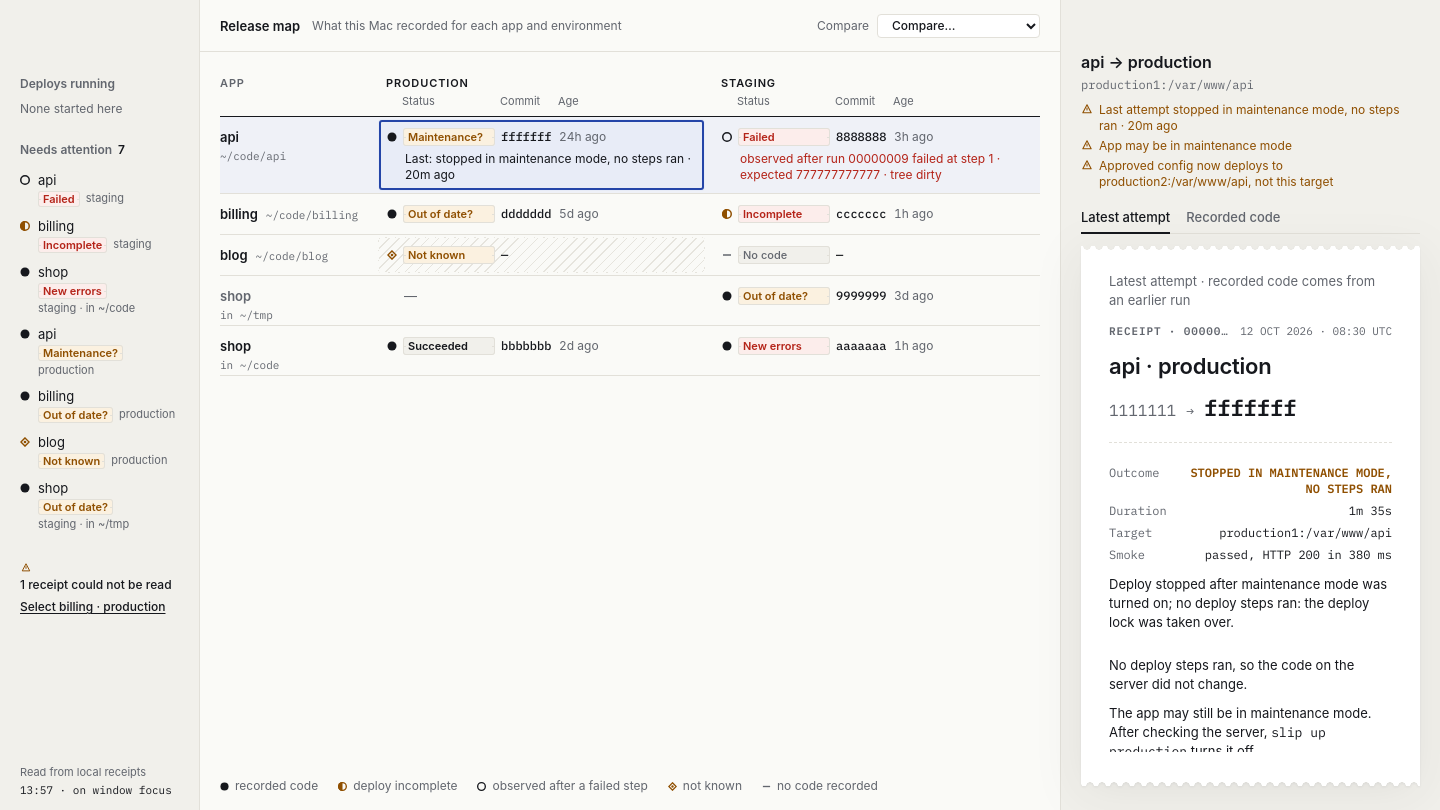
Test: the recorded code and the unreadable receipt are reachable from the receipt
Click the tab "Recorded code" at [1233, 218], box [1186, 202, 1280, 234]
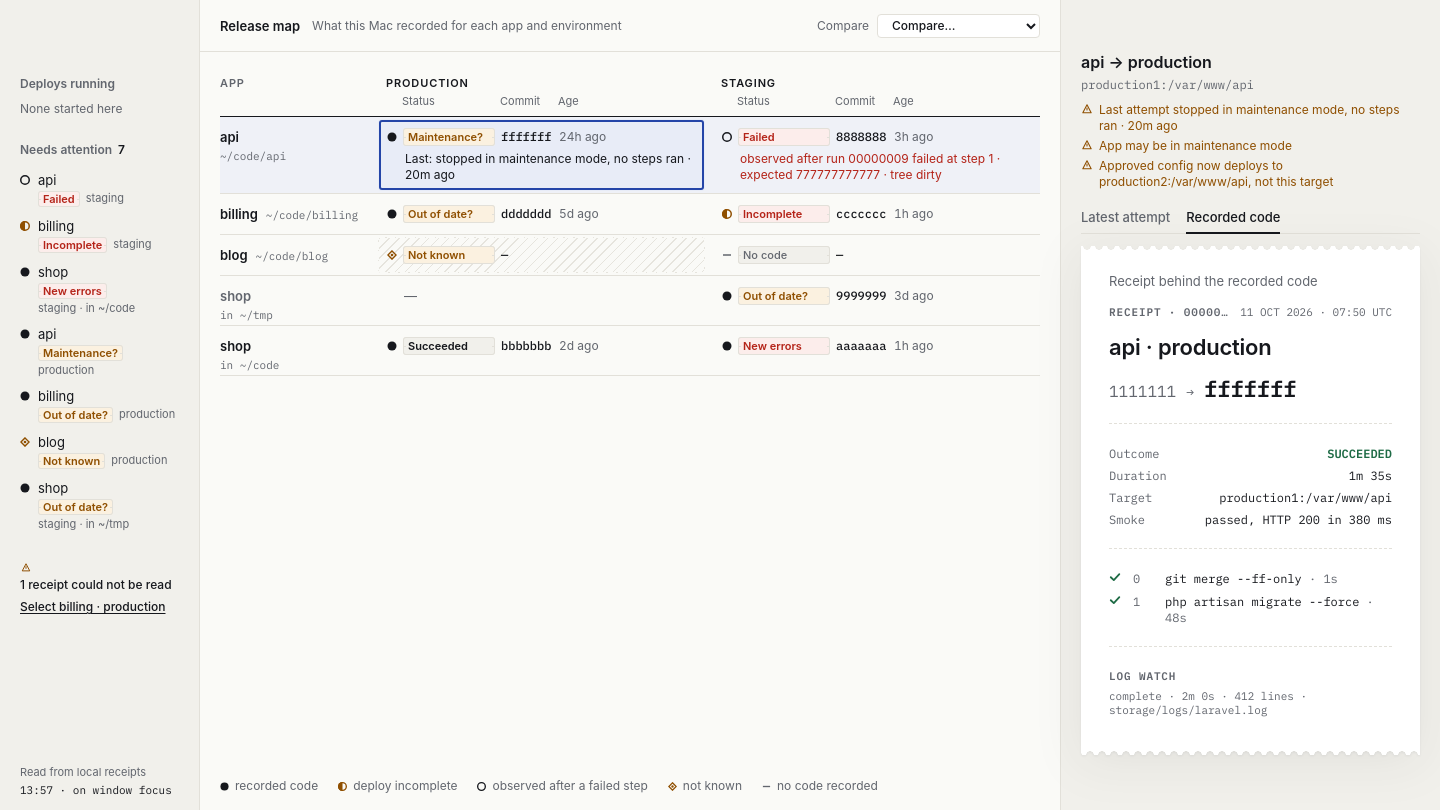
Now the text "Receipt behind the recorded code" is shown, box [1109, 273, 1318, 289]
Click the cell "Out of date? ddddddd 5d ago" at [493, 214], box [387, 205, 599, 223]
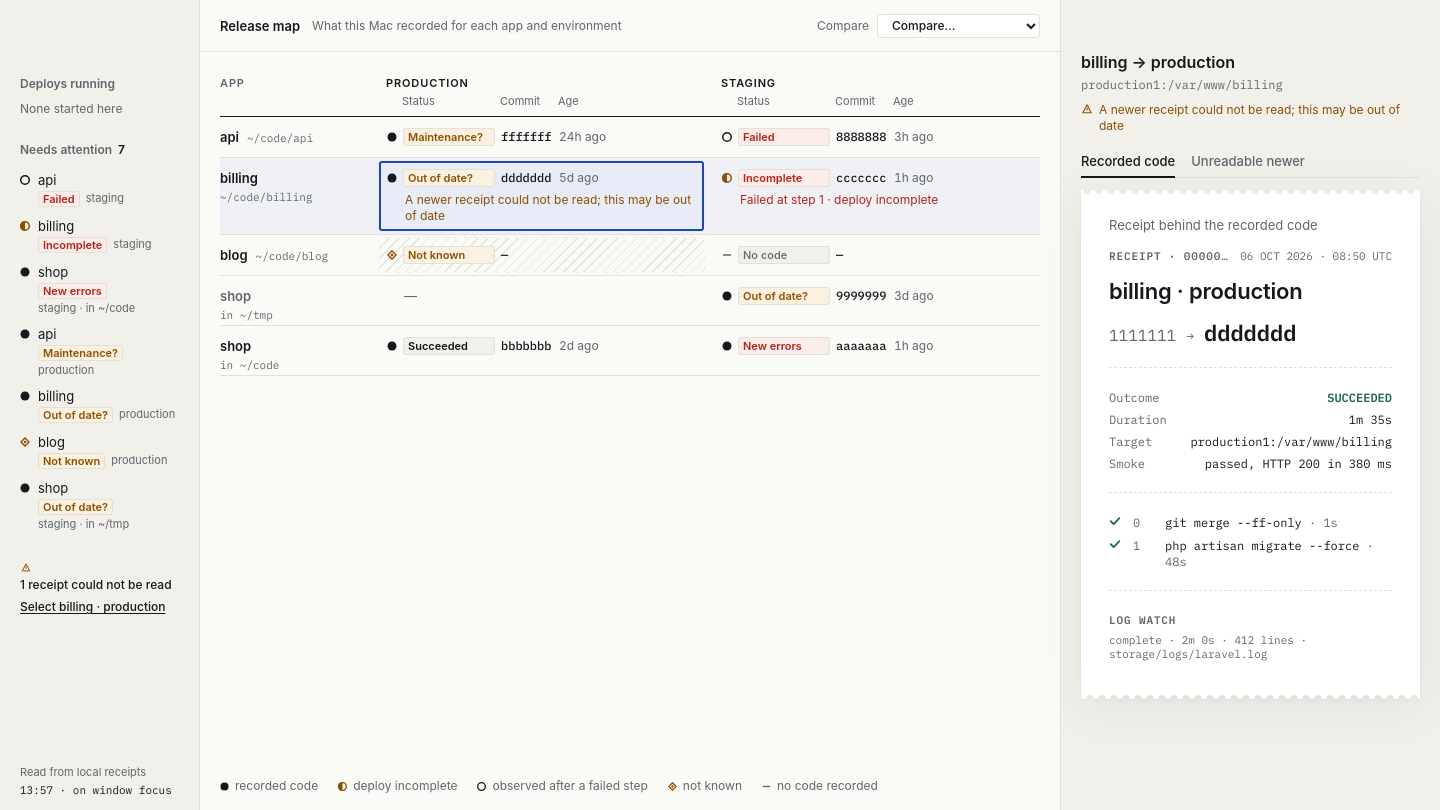
Click the tab "Unreadable newer" at [1248, 162], box [1191, 146, 1305, 178]
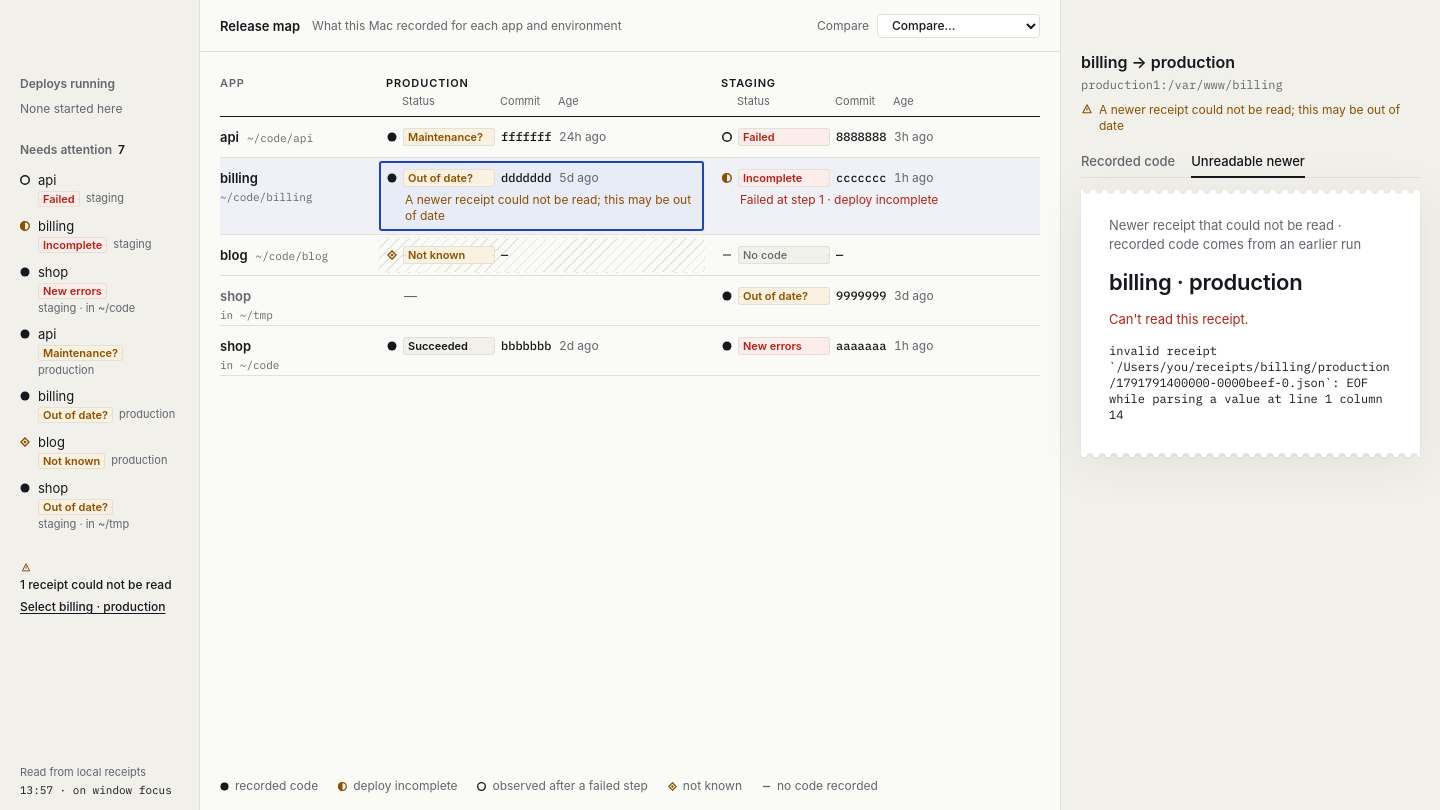
Now the text "Can't read this receipt." is shown, box [1109, 311, 1249, 327]
